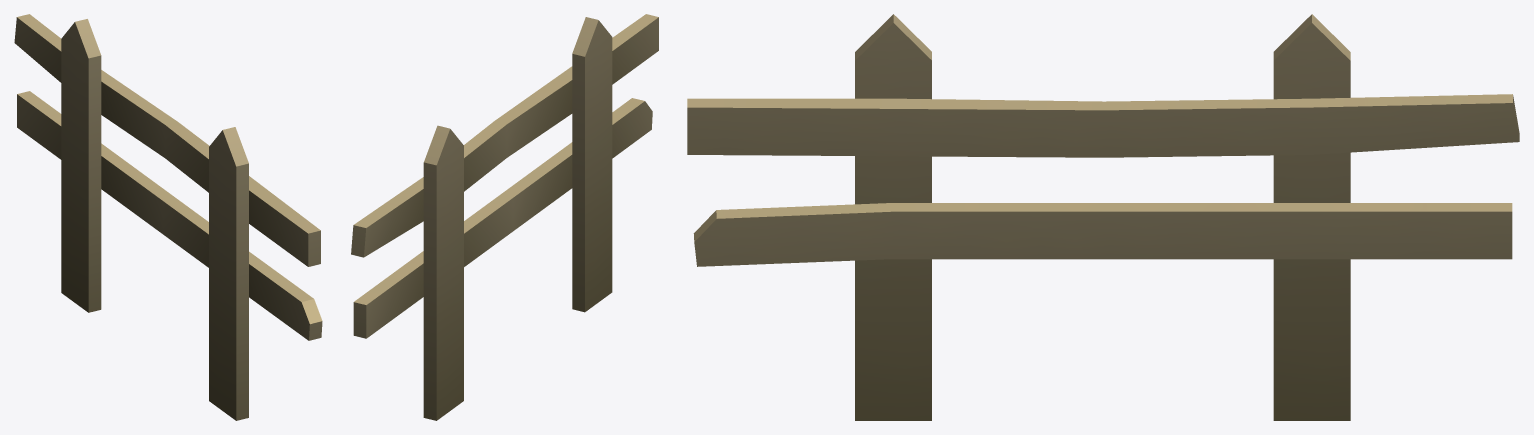
The model's file is Fence_1A.fbx.
The picture shows the model from 3 angles, left to right: view 1: azimuth 30°, elevation 25°; view 2: azimuth 150°, elevation 25°; view 3: azimuth 270°, elevation 25°; orthographic projection. The views are drawn at different scales.
Visible parts, largest first — view 1: Fence_1A; view 2: Fence_1A; view 3: Fence_1A.
Boxes of the visible parts, x1,y1,x2,y2 form: Fence_1A: (14,14,322,420); Fence_1A: (351,14,658,420); Fence_1A: (687,14,1519,420).
Bounding box in the file's own units: 11.61 × 105 × 199.
